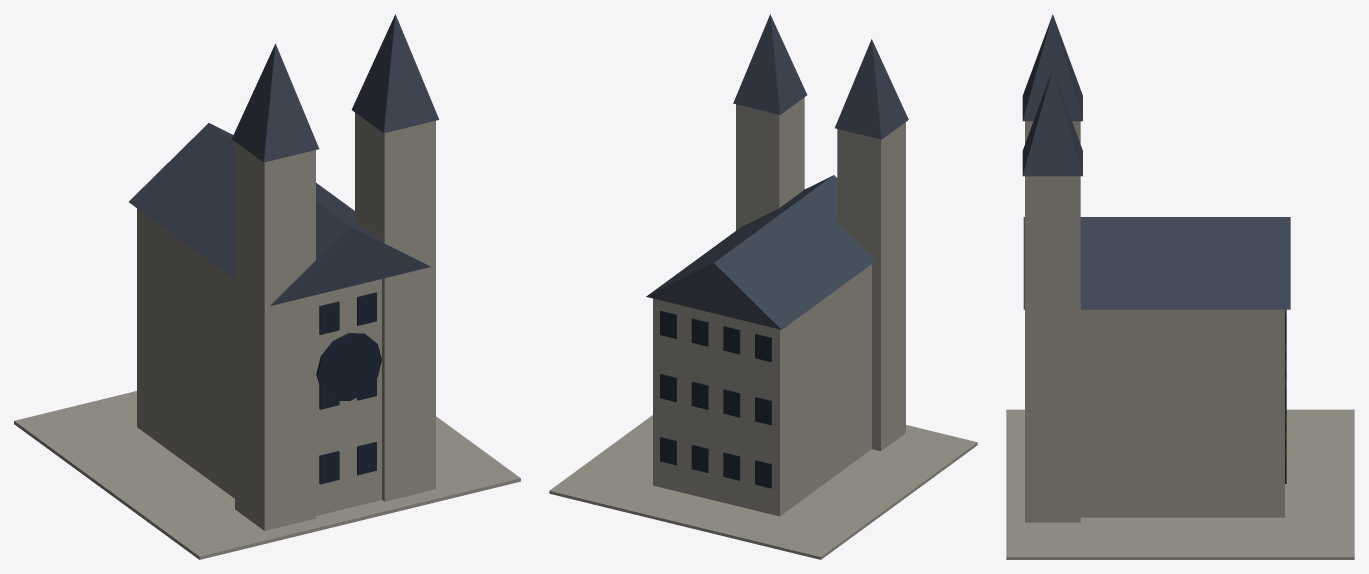
Rendered from bld_special_temple_a03.glb.
The picture shows the model from 3 angles, left to right: view 1: azimuth 30°, elevation 25°; view 2: azimuth 150°, elevation 25°; view 3: azimuth 270°, elevation 25°; orthographic projection. The views are drawn at different scales.
Parts seen in each view (by area): view 1: body; view 2: body; view 3: body.
Part boxes in pixels (x1=…): body: x1=14, y1=14, x2=520, y2=559; body: x1=549, y1=14, x2=977, y2=559; body: x1=1006, y1=14, x2=1354, y2=559.
Size of what is drawn, in the model's own units: 15 by 21.15 by 15.
